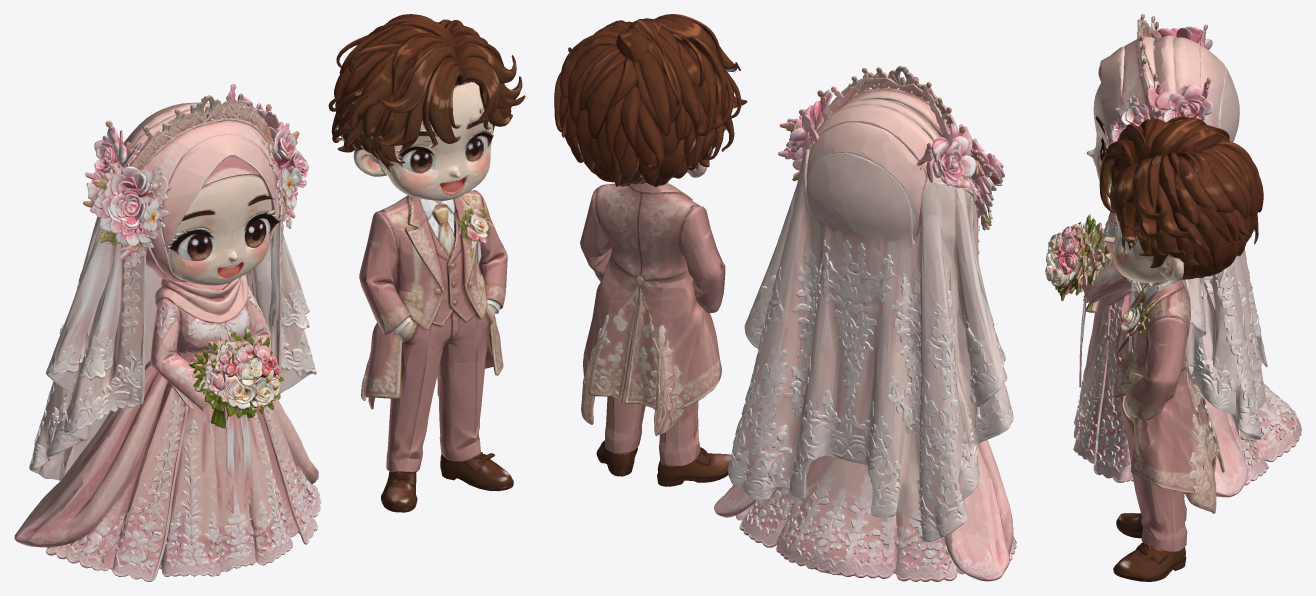
Rendered from couple.glb.
3 renders of one model, left to right at view 1: azimuth 30°, elevation 25°; view 2: azimuth 150°, elevation 25°; view 3: azimuth 270°, elevation 25°, orthographic. The views are drawn at different scales.
Visible parts, largest first — view 1: output_unwrapped; view 2: output_unwrapped; view 3: output_unwrapped.
Boxes of the visible parts, box(x1,y1,x2,y2) form: output_unwrapped: box(14, 14, 525, 581); output_unwrapped: box(554, 14, 1016, 581); output_unwrapped: box(1045, 14, 1301, 581).
Bounding box in the file's own units: 1.9 × 1.79 × 0.9659.
1 material, 1 textured.
